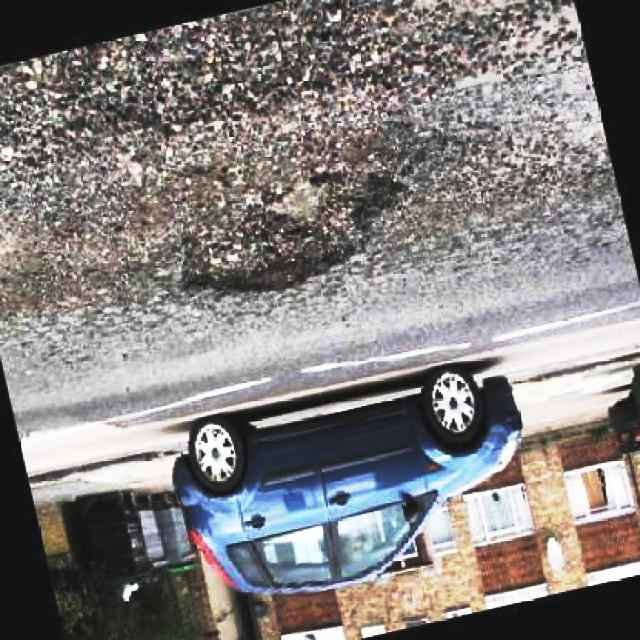pothole: (177, 166, 414, 299)
